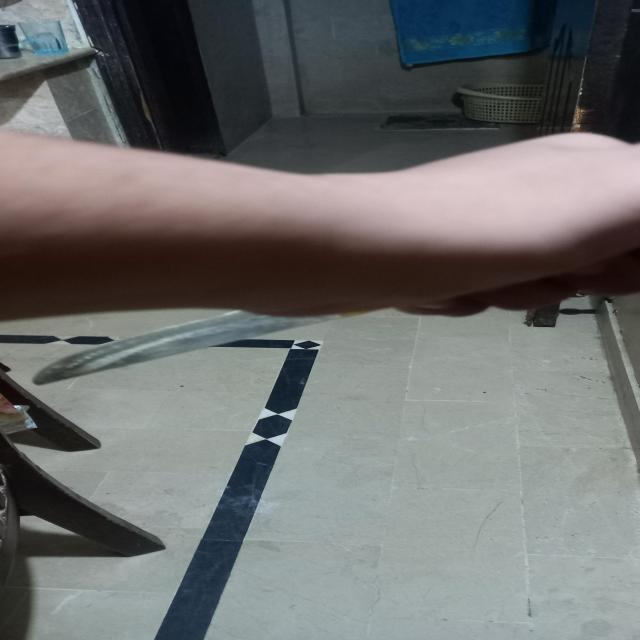Knife: (32, 309, 367, 385)
Person: (0, 124, 640, 321)
